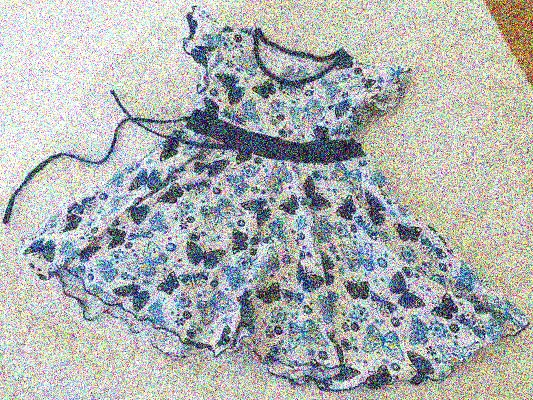Dress: (14, 30, 526, 389)
